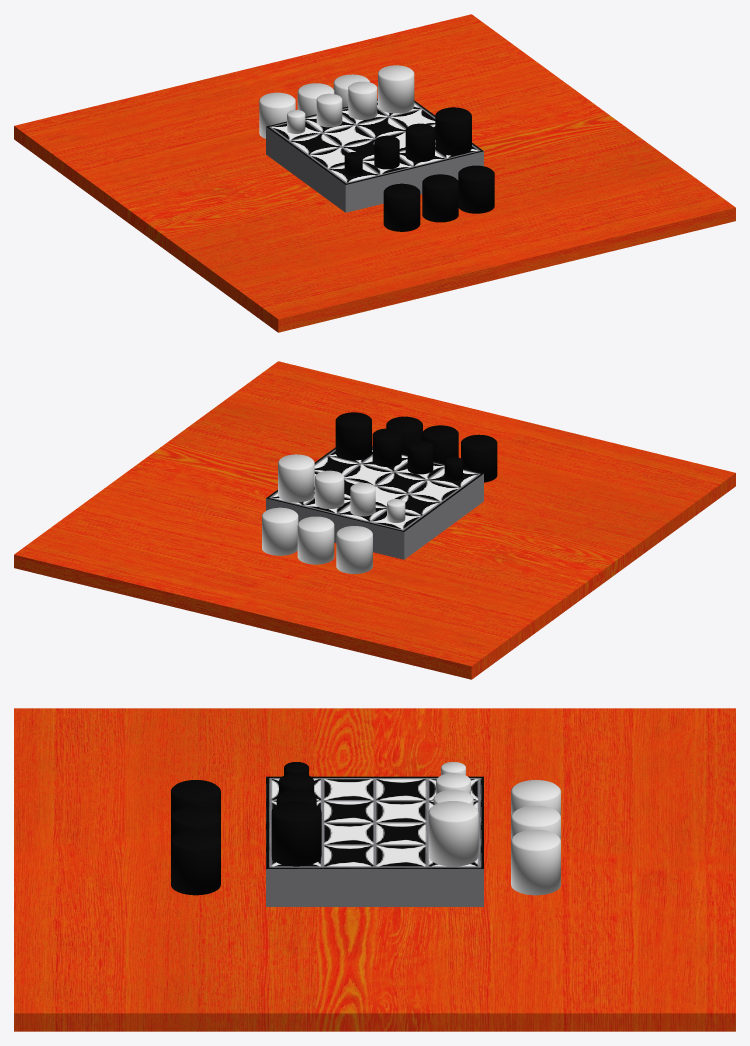
File: bobblet.glb
3 renders of one model, top to bottom at view 1: azimuth 30°, elevation 25°; view 2: azimuth 150°, elevation 25°; view 3: azimuth 270°, elevation 25°, orthographic. The views are drawn at different scales.
Parts seen in each view (by area): view 1: Table, Board, BlackStackRef1, BlackStackRef3, BlackStackRef2, White4, Black4, WhiteStackRef1, White3, Black3, White2, Black2 (+2 smaller); view 2: Table, Board, WhiteStackRef2, Black4, White4, WhiteStackRef1, WhiteStackRef3, BlackStackRef1, White3, Black3, BlackStackRef2, Black2 (+2 smaller); view 3: Table, Board, Black4, White4, WhiteStackRef3, BlackStackRef3, BlackStackRef1, WhiteStackRef1, BlackStackRef2, WhiteStackRef2, White2, Black2.
Boxes of the visible parts, bbox=[...] form: Table: bbox=[14, 14, 735, 332]; Board: bbox=[266, 99, 483, 212]; BlackStackRef1: bbox=[383, 183, 420, 231]; BlackStackRef3: bbox=[458, 165, 494, 213]; BlackStackRef2: bbox=[422, 174, 458, 222]; White4: bbox=[378, 65, 414, 113]; Black4: bbox=[435, 107, 471, 155]; WhiteStackRef1: bbox=[259, 92, 295, 138]; White3: bbox=[348, 81, 377, 119]; Black3: bbox=[405, 123, 434, 161]; White2: bbox=[316, 93, 342, 127]; Black2: bbox=[374, 135, 399, 169]; Table: bbox=[14, 361, 735, 679]; Board: bbox=[266, 446, 483, 559]; WhiteStackRef2: bbox=[297, 516, 334, 564]; Black4: bbox=[335, 412, 371, 460]; White4: bbox=[278, 454, 314, 502]; WhiteStackRef1: bbox=[336, 526, 372, 573]; WhiteStackRef3: bbox=[262, 507, 298, 555]; BlackStackRef1: bbox=[461, 434, 497, 482]; White3: bbox=[315, 470, 344, 508]; Black3: bbox=[372, 428, 401, 466]; BlackStackRef2: bbox=[422, 425, 458, 463]; Black2: bbox=[407, 440, 433, 474]; Table: bbox=[14, 708, 735, 1031]; Board: bbox=[266, 776, 483, 906]; Black4: bbox=[271, 801, 321, 866]; White4: bbox=[428, 801, 478, 866]; WhiteStackRef3: bbox=[511, 829, 560, 895]; BlackStackRef3: bbox=[171, 829, 220, 895]; BlackStackRef1: bbox=[171, 780, 220, 816]; WhiteStackRef1: bbox=[511, 780, 560, 815]; BlackStackRef2: bbox=[171, 805, 220, 840]; WhiteStackRef2: bbox=[511, 805, 560, 839]; White2: bbox=[436, 773, 470, 794]; Black2: bbox=[279, 773, 313, 794].
Bounding box in the file's own units: 14.11 × 2.19 × 14.11.
Materials: 4 (2 with a texture image).
